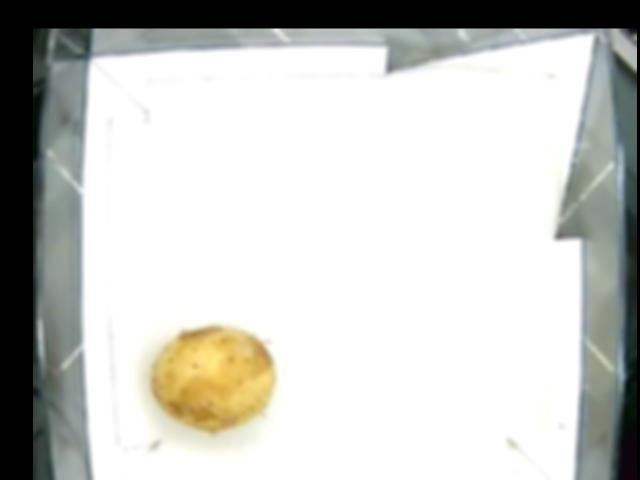Potato: (149, 326, 272, 433)
